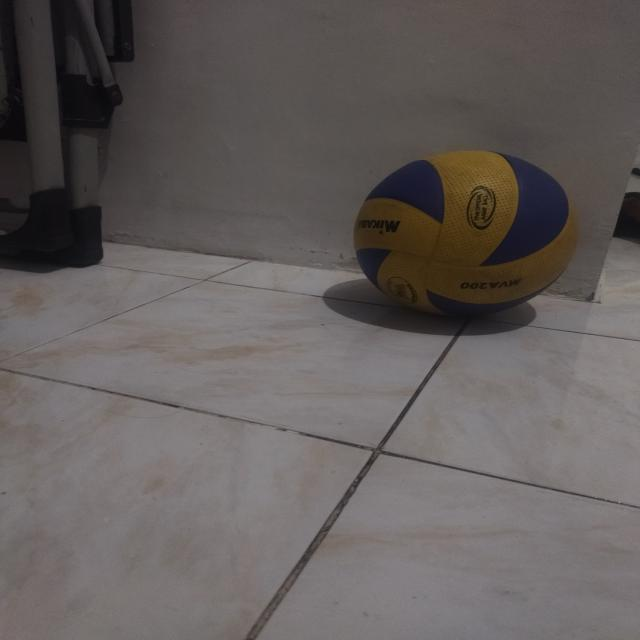Volleyball: (352, 144, 578, 322)
